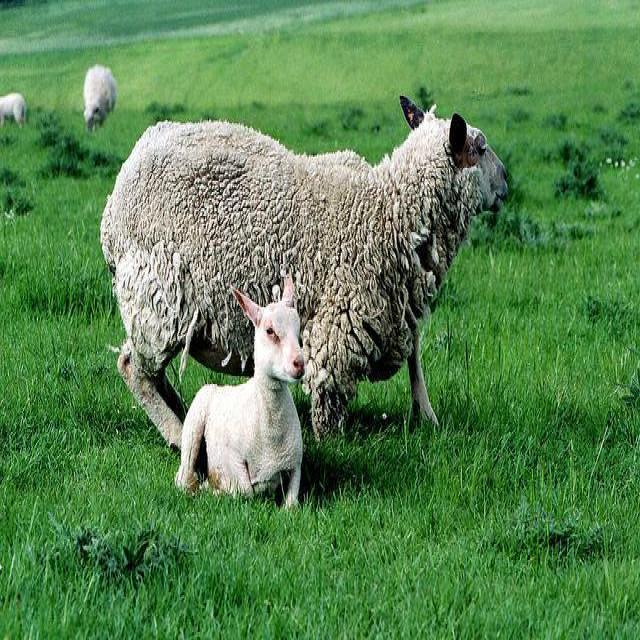Sheep: (102, 96, 510, 451), (175, 270, 306, 512), (83, 66, 117, 134)
